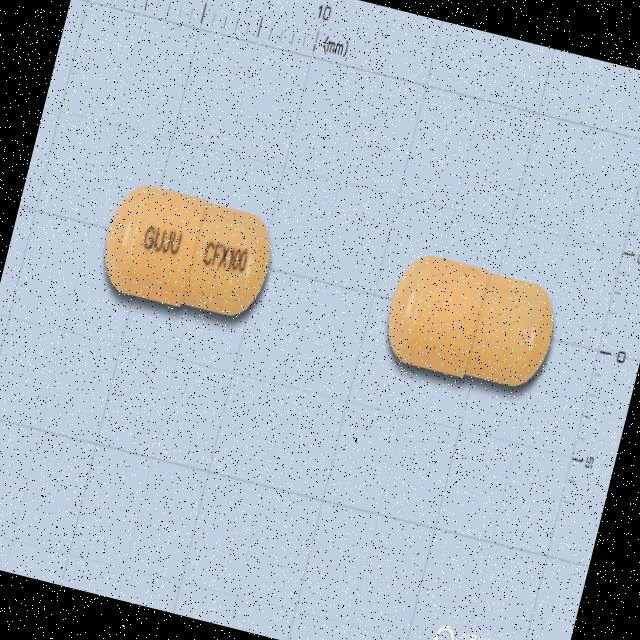Cefsin Cap: (89, 170, 286, 334), (372, 246, 568, 405)
